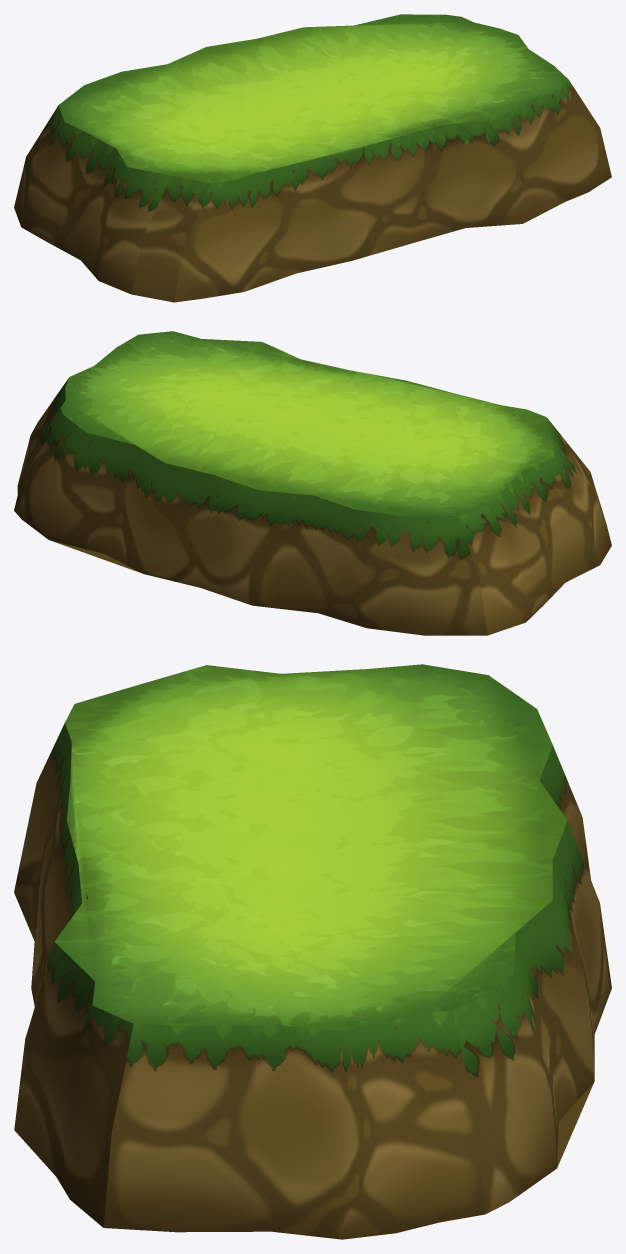
Rendered from Ground000.FBX.
The picture shows the model from 3 angles, top to bottom: view 1: azimuth 30°, elevation 25°; view 2: azimuth 150°, elevation 25°; view 3: azimuth 270°, elevation 25°; orthographic projection. The views are drawn at different scales.
Visible parts, largest first — view 1: Box088; view 2: Box088; view 3: Box088.
Boxes of the visible parts, x1,y1,x2,y2 form: Box088: [14, 14, 611, 302]; Box088: [14, 331, 611, 635]; Box088: [14, 664, 611, 1239].
Size of the model in its own units: 344 by 64.57 by 200.
Materials: 1 (1 with a texture image).
